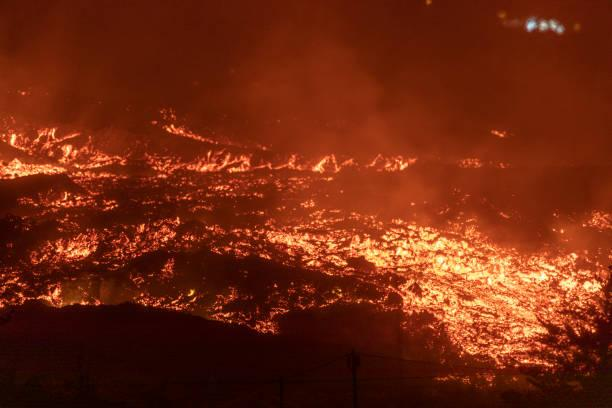Fire: (454, 292, 565, 340), (387, 244, 496, 279), (12, 154, 48, 178)
